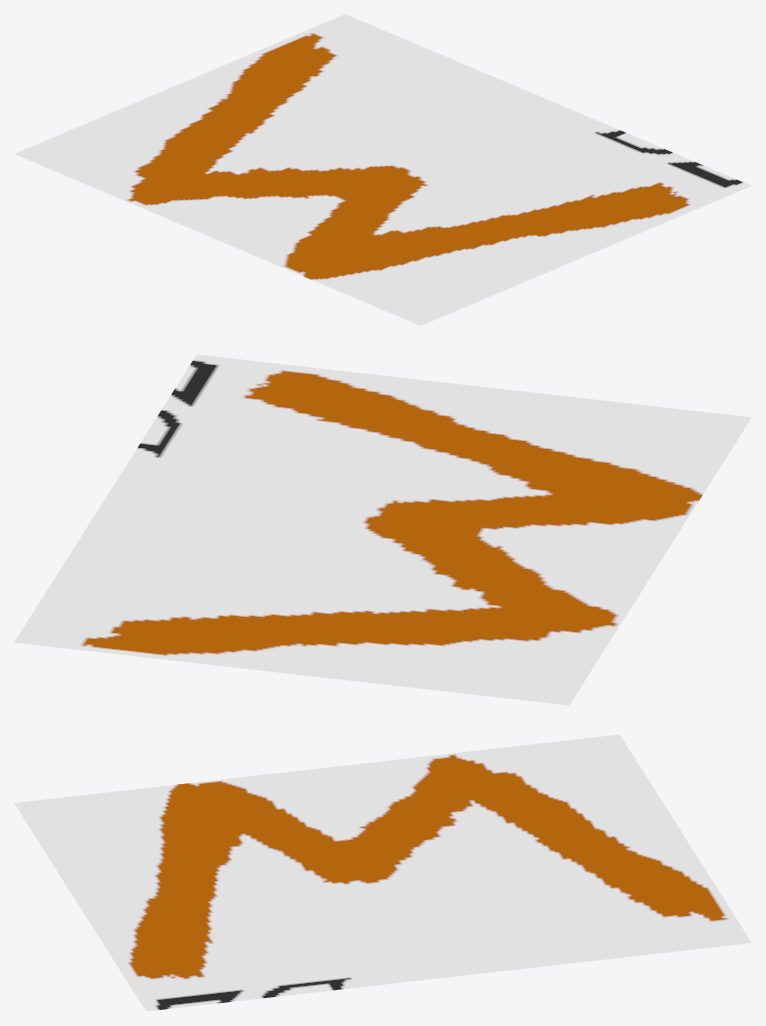
File: obj_panel_w.FBX
The picture shows the model from 3 angles, top to bottom: view 1: azimuth 30°, elevation 25°; view 2: azimuth 150°, elevation 25°; view 3: azimuth 270°, elevation 25°; orthographic projection. The views are drawn at different scales.
Parts seen in each view (by area): view 1: Plane001; view 2: Plane001; view 3: Plane001.
Part boxes in pixels (bbox=[...]): Plane001: bbox=[14, 14, 751, 325]; Plane001: bbox=[14, 354, 751, 705]; Plane001: bbox=[14, 734, 751, 1011].
Size of the model in its own units: 29.7 by 1.78e-15 by 33.42.
Materials: 1 (1 with a texture image).
